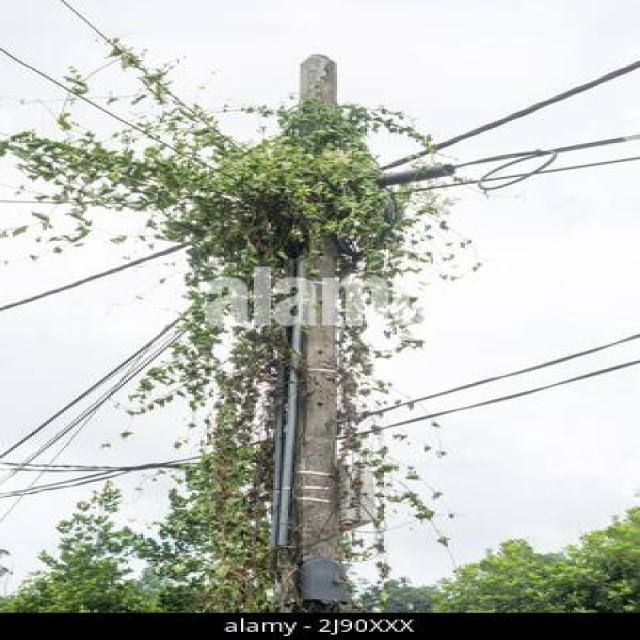light_pole: (135, 43, 544, 320)
